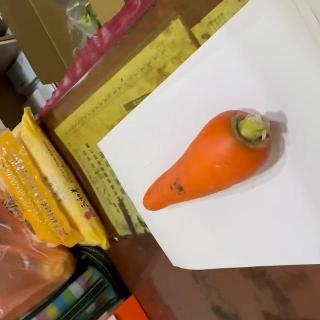carrot: (143, 110, 273, 213)
